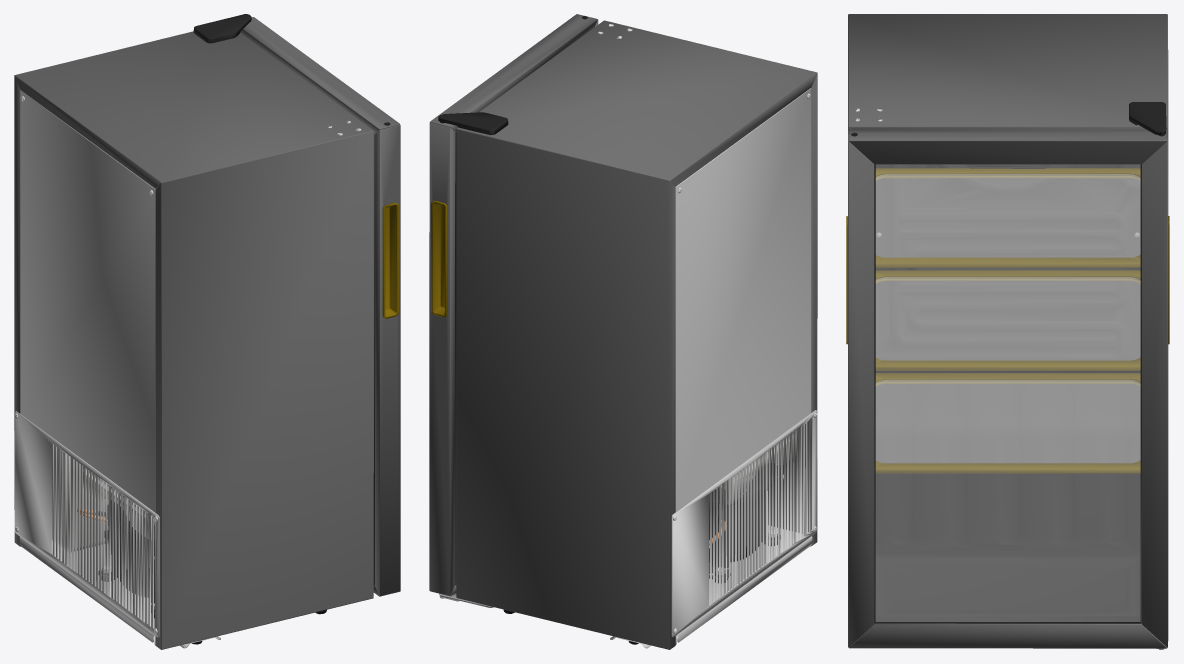
Rendered from beverage_fridge.glb.
3 views of the same model, side by side, from view 1: azimuth 30°, elevation 25°; view 2: azimuth 150°, elevation 25°; view 3: azimuth 270°, elevation 25° (orthographic). The views are drawn at different scales.
Parts seen in each view (by area): view 1: body; view 2: body; view 3: body.
Part boxes in pixels (x1,y1,x2,y2): body: (14,14,400,649); body: (429,14,817,649); body: (846,14,1169,649).
Size of the model in its own units: 0.4547 by 0.865 by 0.4849.
